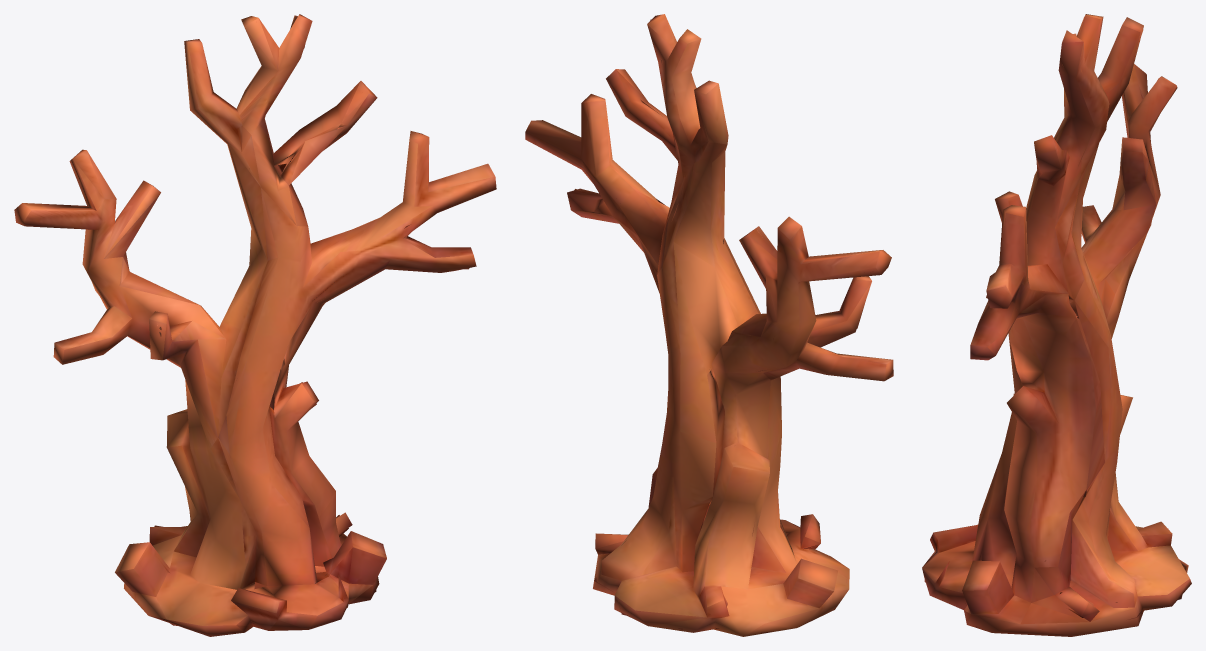
Rendered from lg-dead-desert-tree.glb.
3 views of the same model, side by side, from view 1: azimuth 30°, elevation 25°; view 2: azimuth 150°, elevation 25°; view 3: azimuth 270°, elevation 25° (orthographic). The views are drawn at different scales.
Visible parts, largest first — view 1: geometry_0; view 2: geometry_0; view 3: geometry_0.
Boxes of the visible parts, x1,y1,x2,y2 form: geometry_0: (14,14,496,636); geometry_0: (525,14,893,636); geometry_0: (922,14,1191,636).
Size of the model in its own units: 0.7803 by 1 by 0.4202.
1 material, 1 textured.
